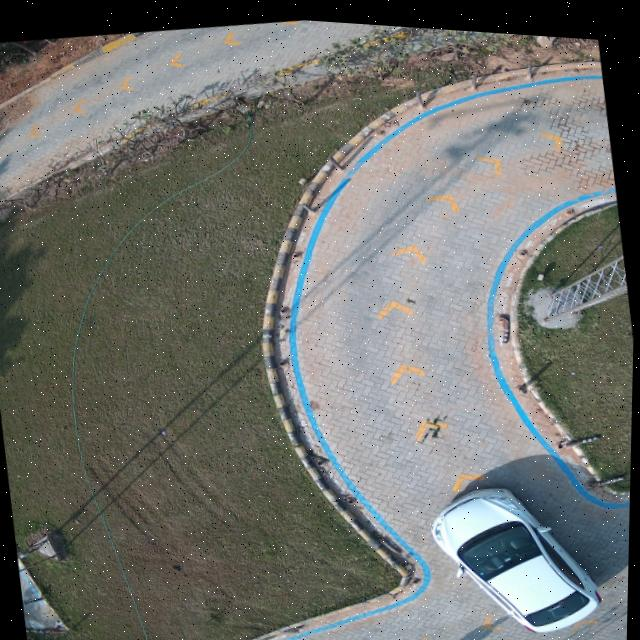car: (437, 481, 606, 625)
